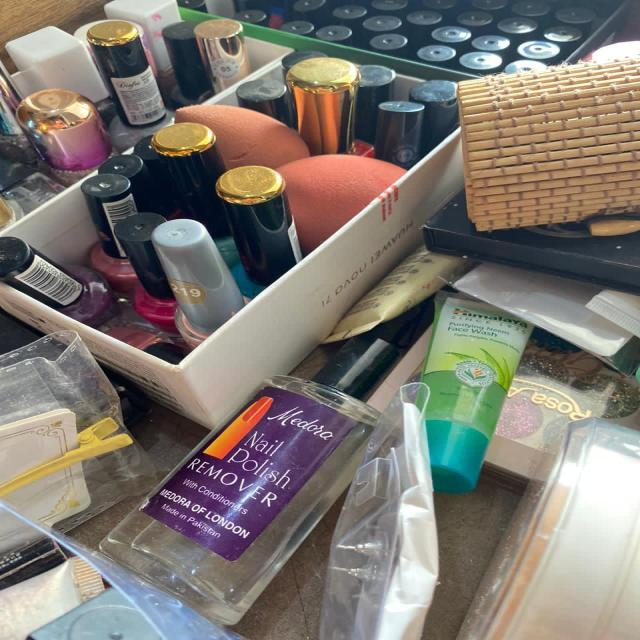nail polish: (7, 2, 430, 323)
nail polish remover: (86, 308, 430, 621)
primer: (432, 279, 540, 531)
